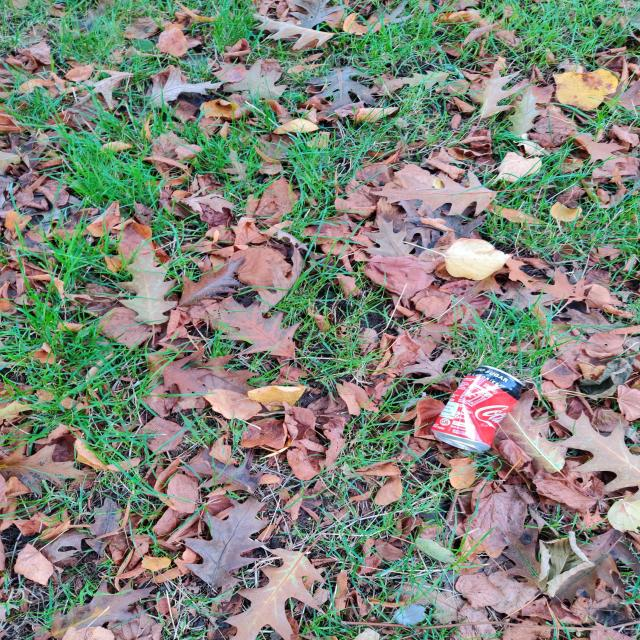litter: (424, 358, 528, 454)
